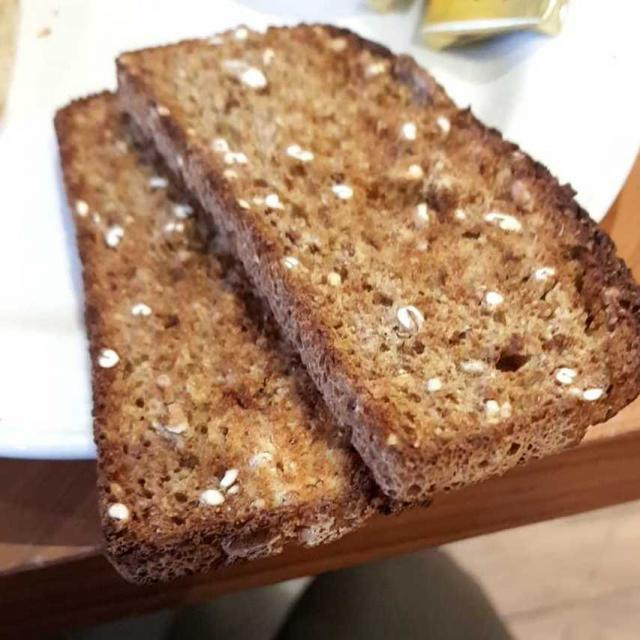bread: (63, 34, 635, 579)
